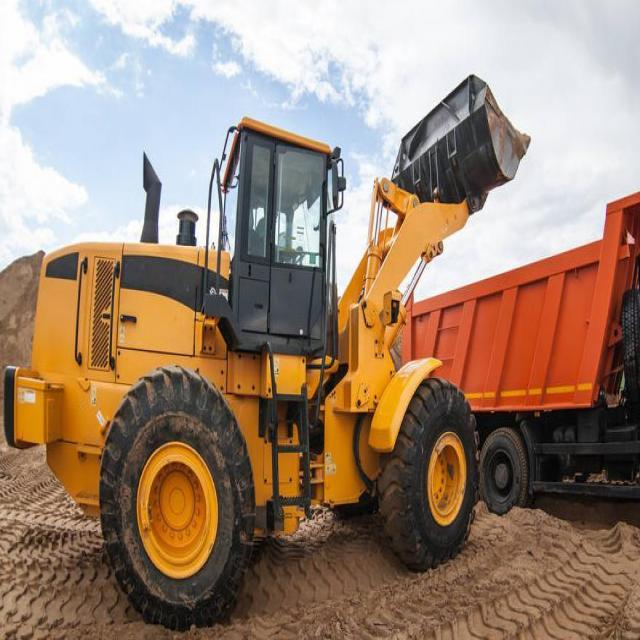Dump Truck: (408, 188, 640, 518)
Loader: (0, 71, 532, 630)
